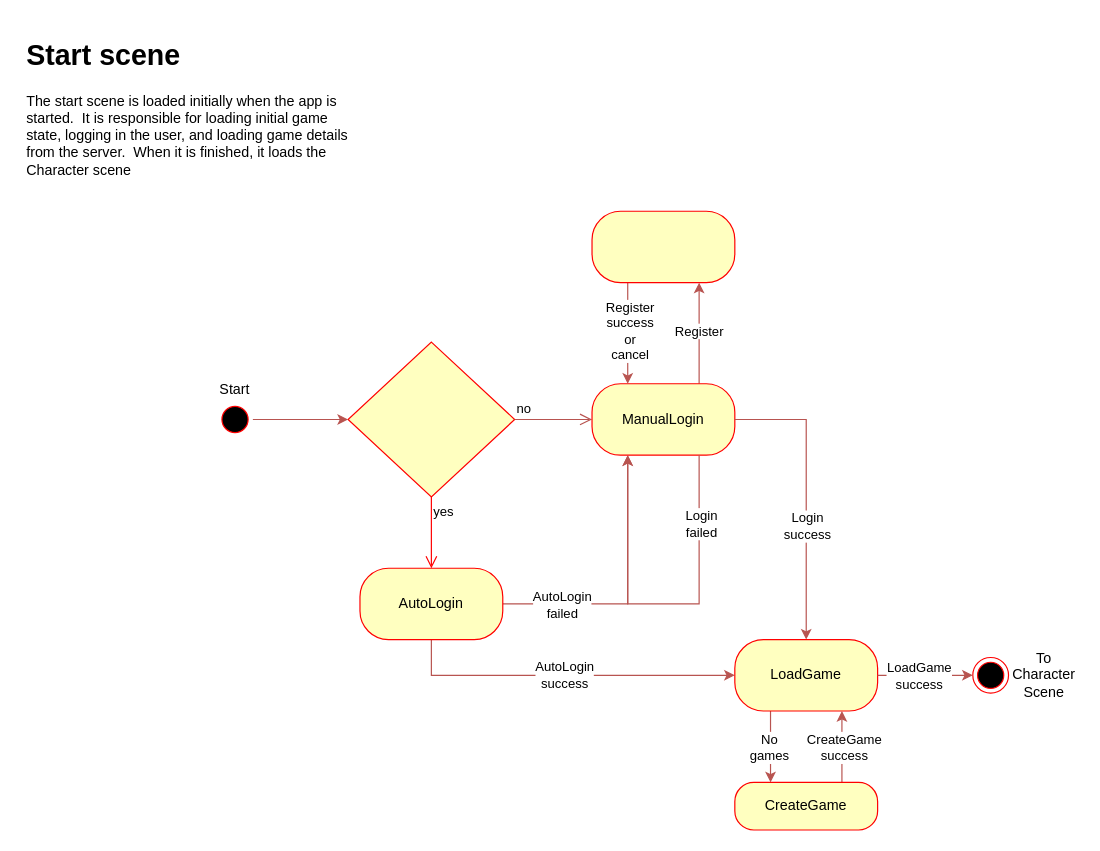
This 1100x851 diagram has some shape labels left out. Each missing label, with the centre of its shape:
Login details remembered?: the point at 431,419
NewUser: the point at 663,246
